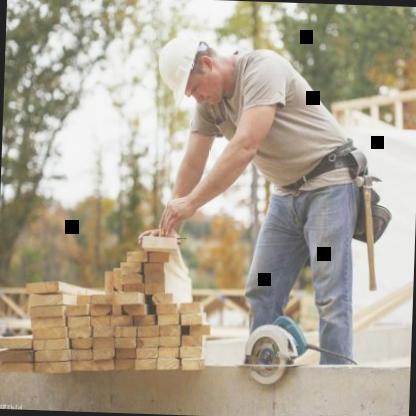helmet: (152, 30, 228, 114)
